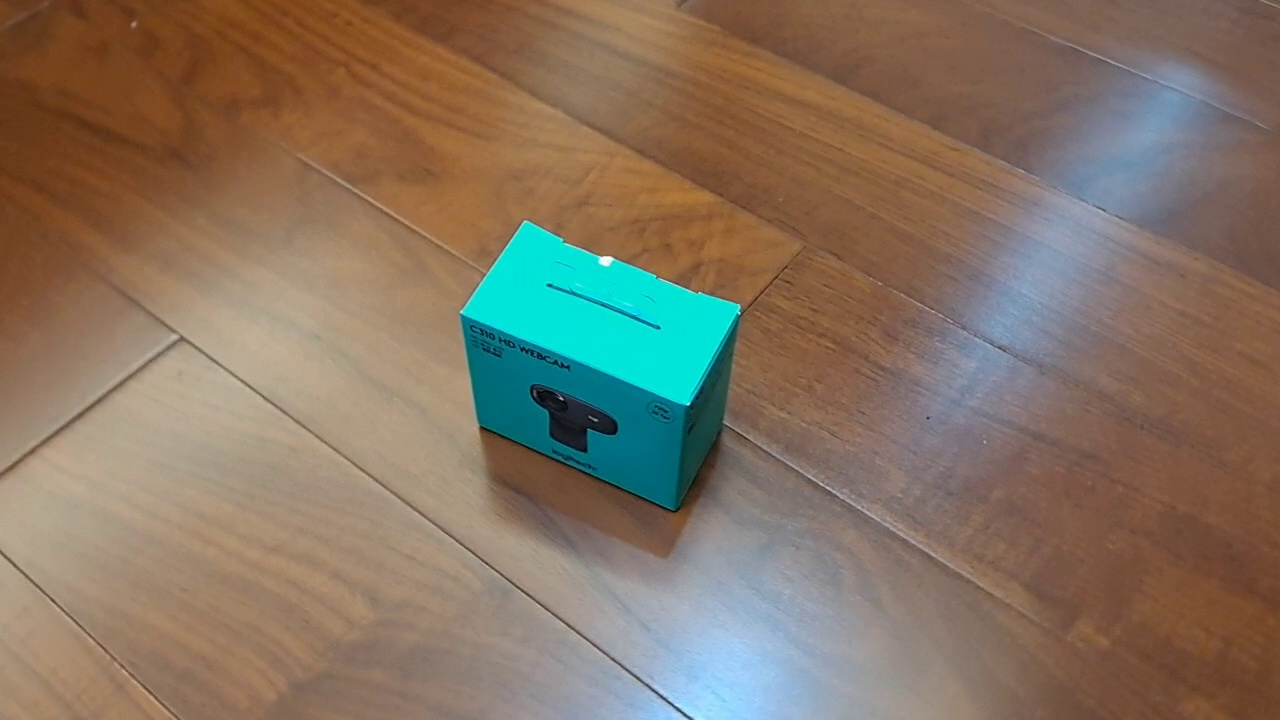webcam: (457, 219, 743, 513)
